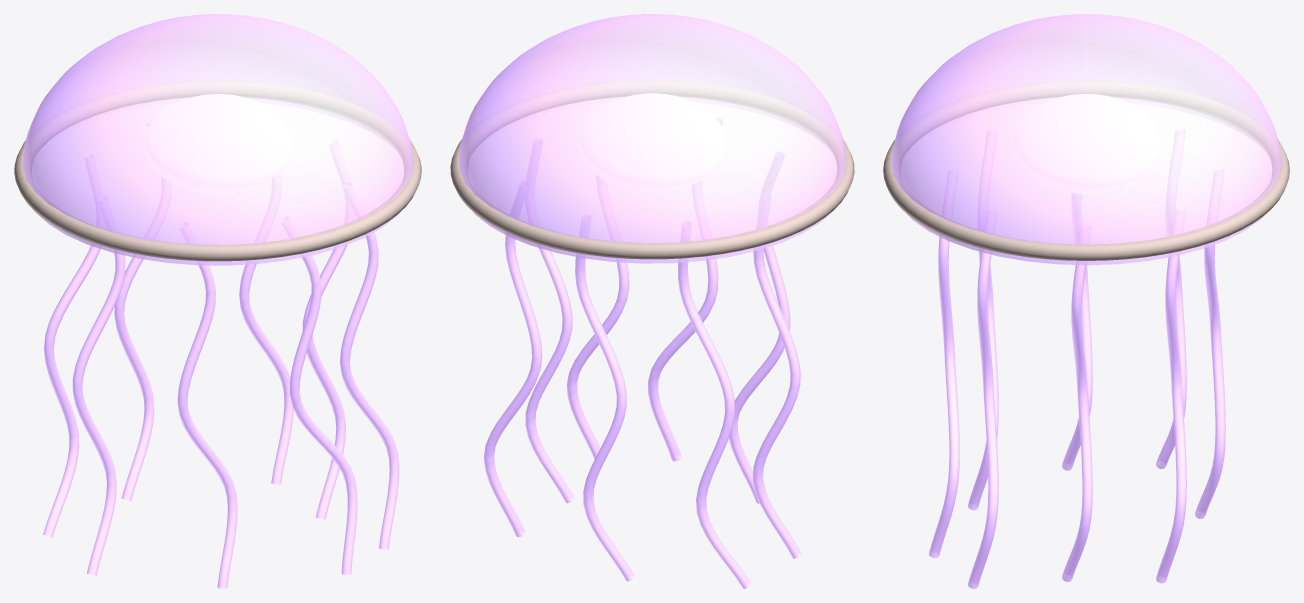
File: jelly.gltf
3 renders of one model, left to right at view 1: azimuth 30°, elevation 25°; view 2: azimuth 150°, elevation 25°; view 3: azimuth 270°, elevation 25°, orthographic.
Visible parts, largest first — view 1: Group (×9); view 2: Group (×9); view 3: Group (×9).
Boxes of the visible parts, bbox=[...] form: Group (×9): bbox=[14, 14, 421, 588]; Group (×9): bbox=[450, 14, 854, 588]; Group (×9): bbox=[883, 14, 1289, 588].
Bounding box in the file's own units: 1.56 × 2.1 × 1.56.
